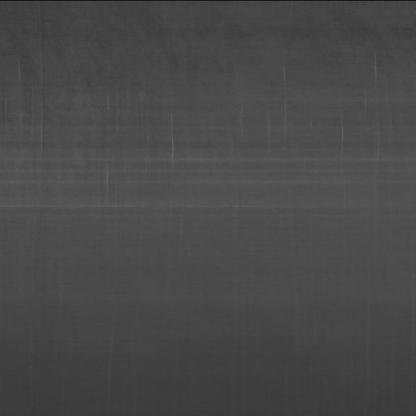waist_folding: (44, 63, 371, 195)
